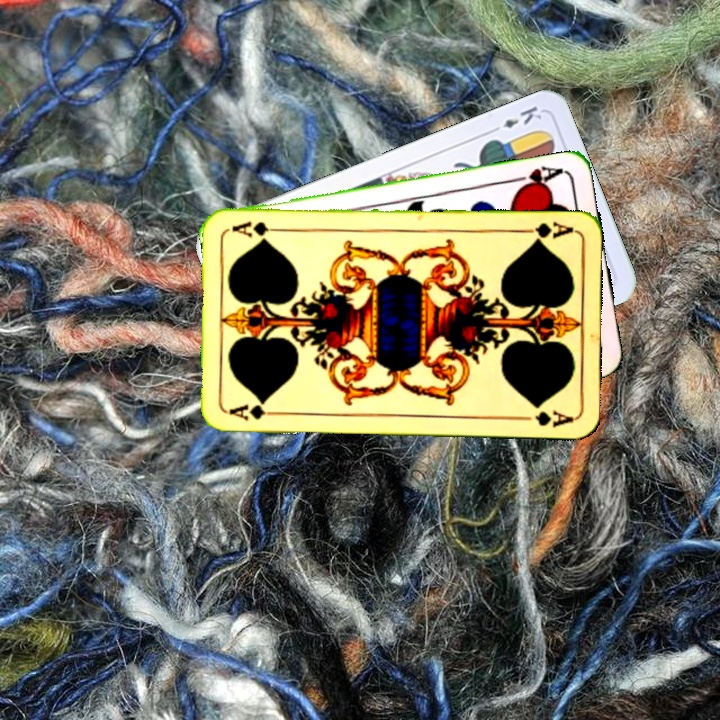EK: (486, 102, 545, 136)
GA: (517, 218, 576, 245), (225, 400, 284, 423)
HA: (509, 162, 567, 194)
